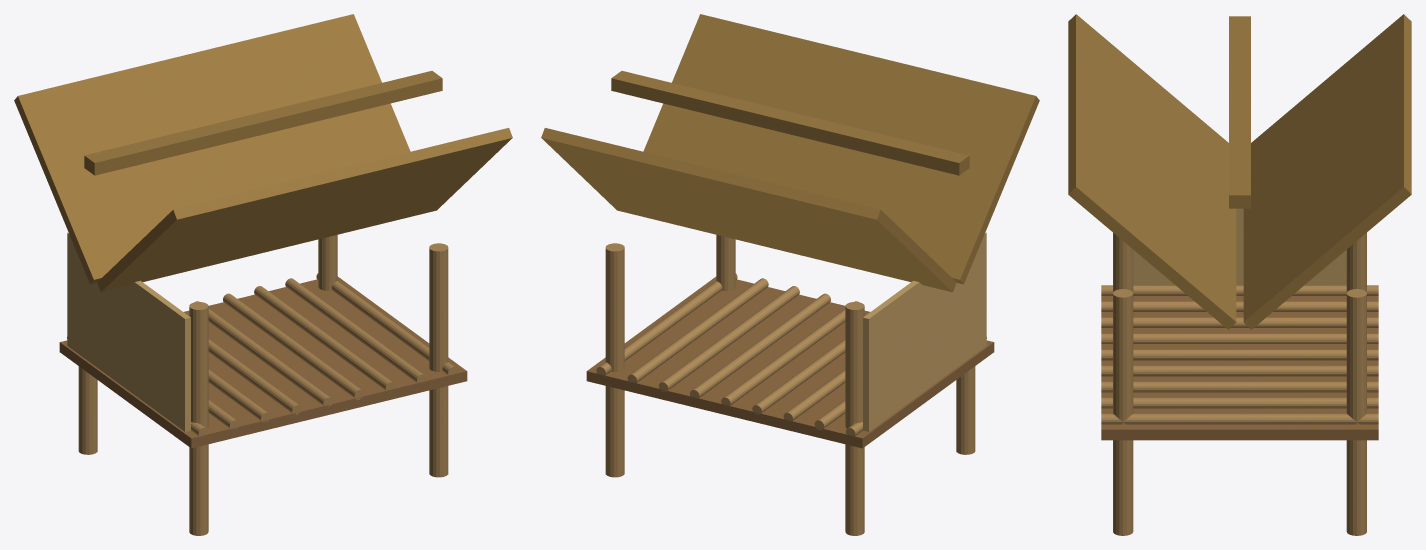
The model's file is gubuk.glb.
3 renders of one model, left to right at view 1: azimuth 30°, elevation 25°; view 2: azimuth 150°, elevation 25°; view 3: azimuth 270°, elevation 25°, orthographic. The views are drawn at different scales.
Visible parts, largest first — view 1: Cylinder; view 2: Cylinder; view 3: Cylinder.
Boxes of the visible parts, left/top/right/bottom form: Cylinder: left=14, top=14, right=512, bottom=535; Cylinder: left=541, top=14, right=1039, bottom=535; Cylinder: left=1068, top=14, right=1411, bottom=535.
Size of the model in its own units: 1.04 by 1 by 0.8429.
1 material, 1 textured.
